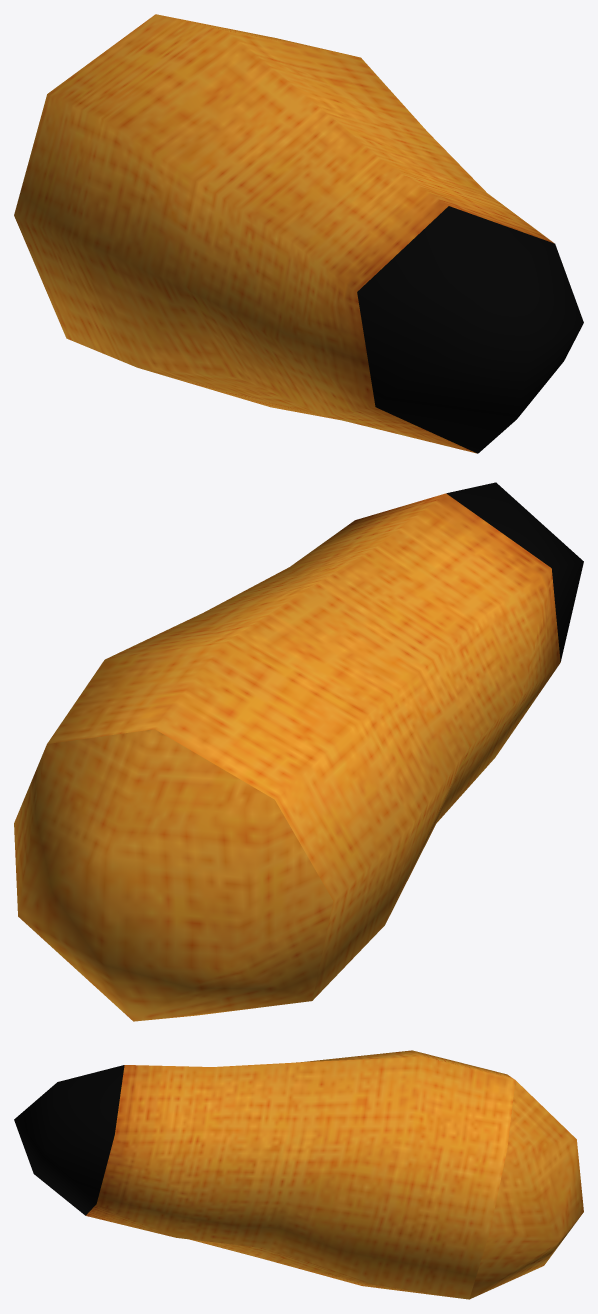
The model's file is Colita.obj.
3 renders of one model, top to bottom at view 1: azimuth 30°, elevation 25°; view 2: azimuth 150°, elevation 25°; view 3: azimuth 270°, elevation 25°, orthographic. The views are drawn at different scales.
Visible parts, largest first — view 1: polySurface1; view 2: polySurface1; view 3: polySurface1.
Part boxes in pixels (x1,y1,x2,y2): polySurface1: [14, 14, 583, 453]; polySurface1: [14, 482, 583, 1021]; polySurface1: [14, 1050, 583, 1299].
Size of the model in its own units: 0.2017 by 0.2017 by 0.4427.
Materials: 1 (1 with a texture image).
